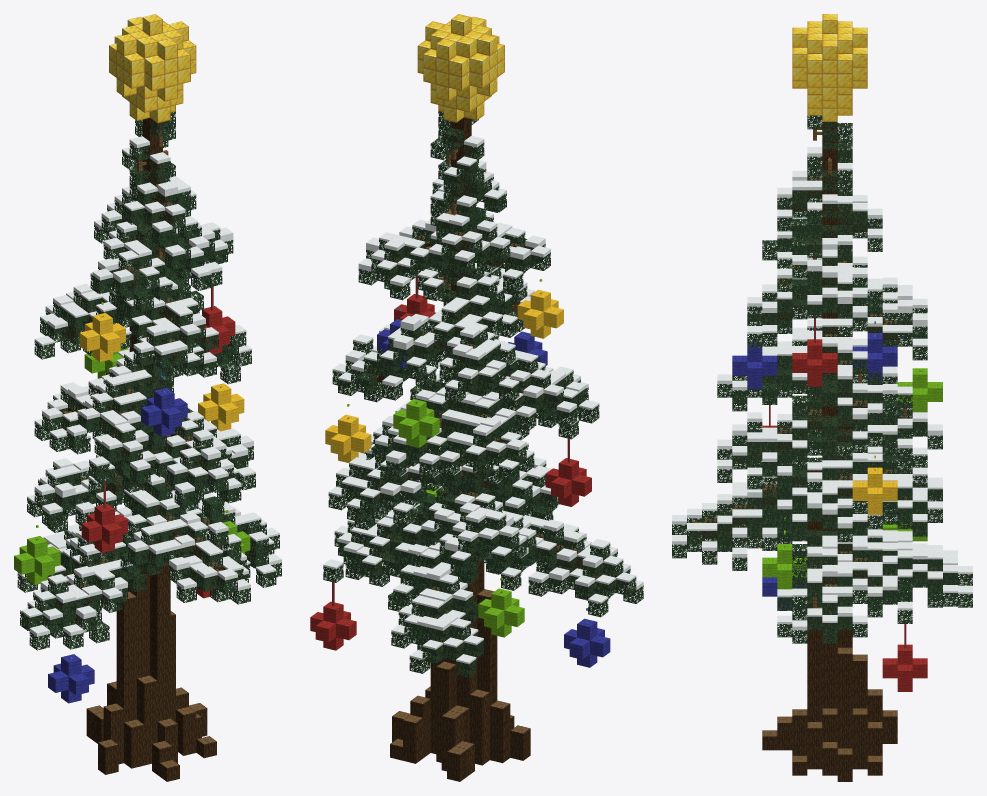
File: Mineways2Skfb.obj
3 views of the same model, side by side, from view 1: azimuth 30°, elevation 25°; view 2: azimuth 150°, elevation 25°; view 3: azimuth 270°, elevation 25° (orthographic).
Parts seen in each view (by area): view 1: Oak_Leaves, Snow, Oak_Log, Wool, Block_of_Gold, Spruce_Fence; view 2: Oak_Leaves, Snow, Oak_Log, Wool, Block_of_Gold, Spruce_Fence; view 3: Oak_Leaves, Snow, Oak_Log, Wool, Block_of_Gold, Spruce_Fence.
Part boxes in pixels (x1=…): Oak_Leaves: x1=17, y1=111, x2=281, y2=650; Snow: x1=17, y1=136, x2=281, y2=636; Oak_Log: x1=54, y1=118, x2=248, y2=781; Wool: x1=14, y1=306, x2=250, y2=703; Block_of_Gold: x1=109, y1=14, x2=196, y2=123; Spruce_Fence: x1=42, y1=131, x2=253, y2=624; Oak_Leaves: x1=323, y1=111, x2=643, y2=677; Snow: x1=323, y1=135, x2=643, y2=664; Oak_Log: x1=365, y1=117, x2=596, y2=781; Wool: x1=310, y1=289, x2=610, y2=667; Block_of_Gold: x1=417, y1=14, x2=504, y2=122; Spruce_Fence: x1=359, y1=144, x2=615, y2=652; Oak_Leaves: x1=672, y1=115, x2=972, y2=643; Snow: x1=672, y1=142, x2=972, y2=630; Oak_Log: x1=702, y1=122, x2=942, y2=781; Wool: x1=732, y1=265, x2=942, y2=691; Block_of_Gold: x1=792, y1=14, x2=867, y2=121; Spruce_Fence: x1=692, y1=126, x2=950, y2=627.
Bounding box in the file's own units: 0.3889 × 1 × 0.3704.
7 materials, 7 textured.
